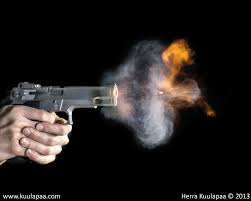gun: (2, 77, 123, 166)
